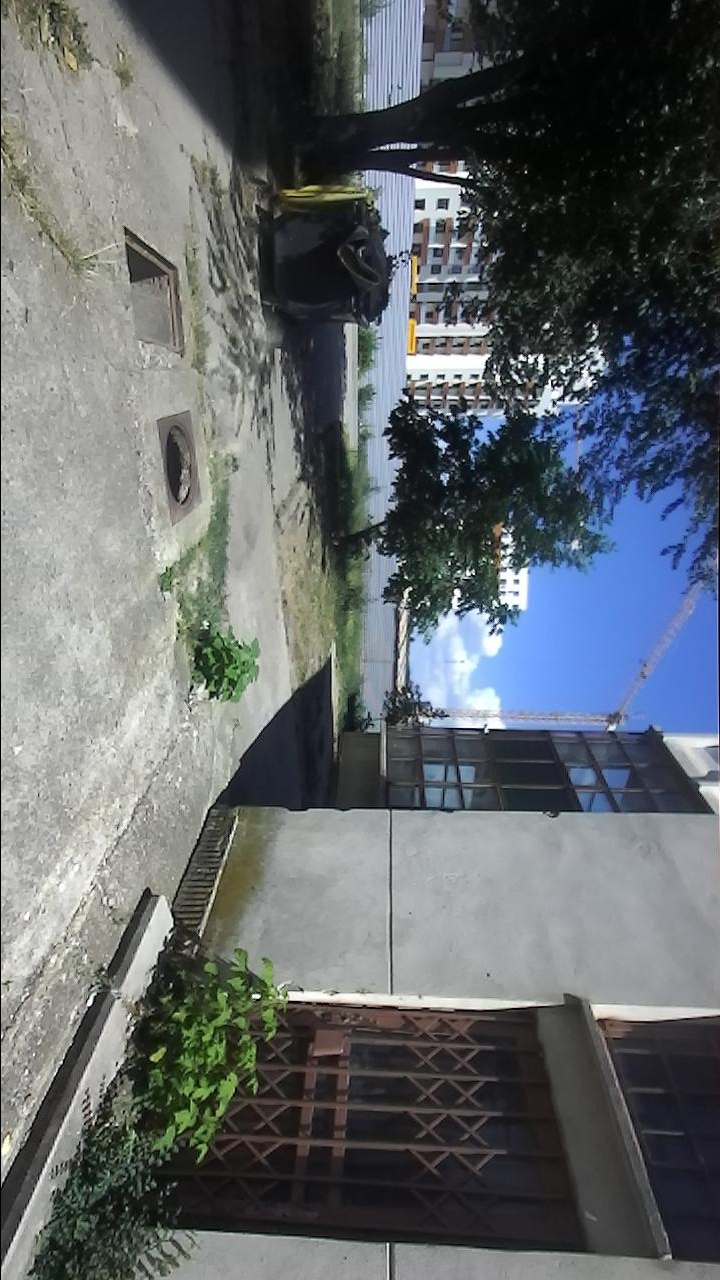drain: (120, 222, 188, 359), (161, 418, 195, 513)
